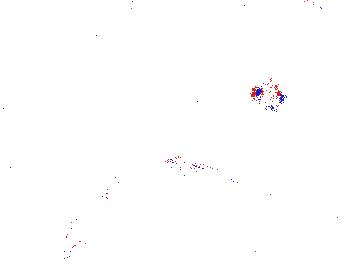X-ray fish: (244, 77, 281, 109)
glassfish: (66, 175, 121, 249), (164, 153, 247, 192)
redtail glassfish: (86, 1, 144, 19)
